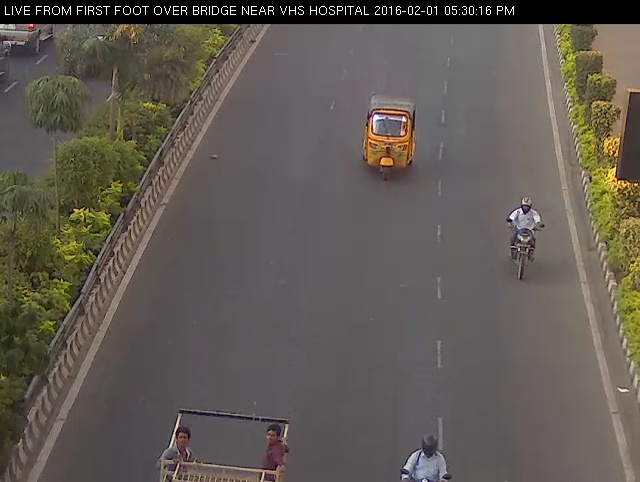Auto: (137, 390, 309, 480), (349, 76, 428, 193)
Person: (495, 187, 549, 292), (391, 422, 464, 480)
